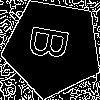B: (28, 23, 79, 64)
